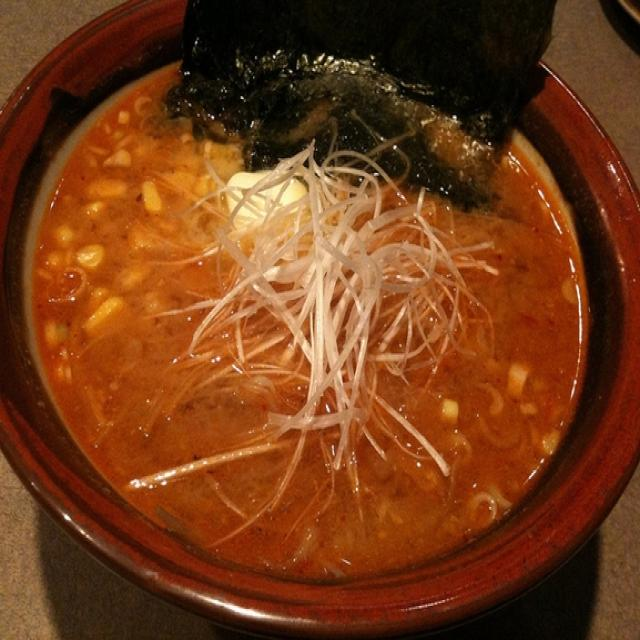汤锅炖物: (10, 7, 628, 615)
